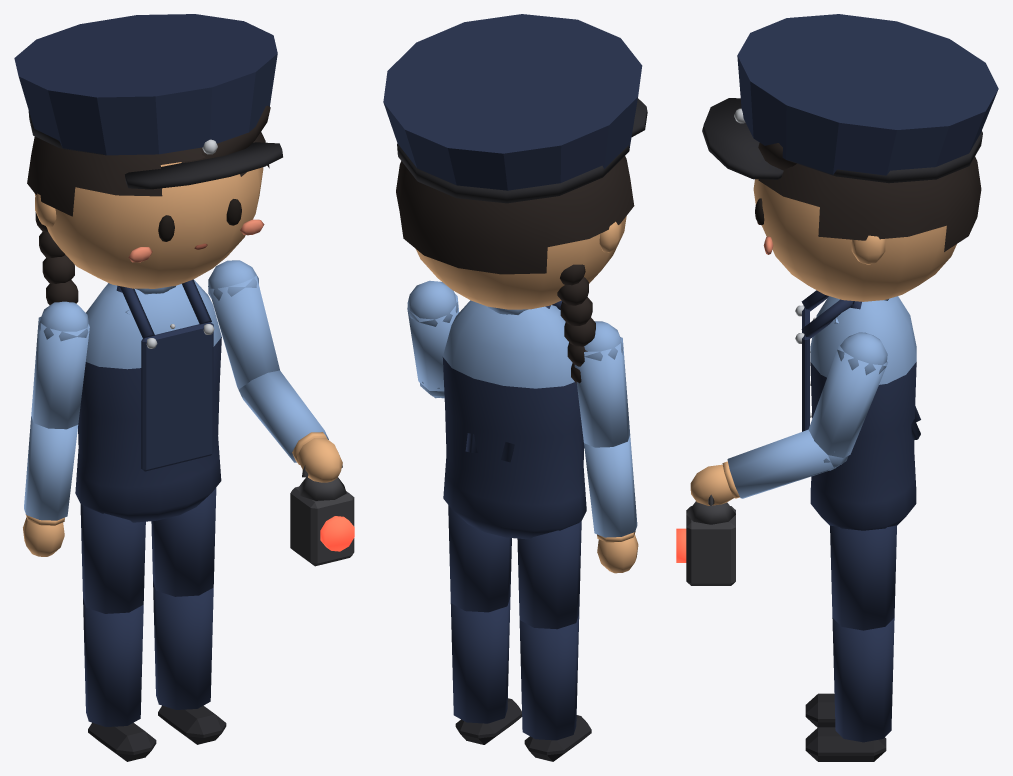
File: era2_rail_worker.glb
3 renders of one model, left to right at view 1: azimuth 30°, elevation 25°; view 2: azimuth 150°, elevation 25°; view 3: azimuth 270°, elevation 25°, orthographic.
Parts seen in each view (by area): view 1: head, body, shin_L, shin_R, arm_R, leg_R, arm_L, forearm_R, forearm_L, leg_L, prop_lantern; view 2: head, body, shin_R, shin_L, leg_R, forearm_R, arm_R, leg_L, arm_L; view 3: head, body, shin_L, leg_L, arm_L, forearm_L, prop_lantern, shin_R.
Part boxes in pixels (x1,y1,x2,y2): head: (14, 14, 282, 305); body: (75, 279, 221, 522); shin_L: (153, 581, 226, 744); shin_R: (83, 598, 156, 761); arm_R: (31, 301, 89, 429); leg_R: (80, 504, 145, 613); arm_L: (208, 260, 279, 397); forearm_R: (23, 416, 78, 556); forearm_L: (238, 370, 342, 482); leg_L: (151, 488, 216, 596); prop_lantern: (290, 465, 354, 566); head: (383, 14, 647, 383); body: (442, 300, 586, 539); shin_R: (519, 614, 591, 761); shin_L: (450, 596, 521, 744); leg_R: (517, 521, 581, 629); forearm_R: (584, 435, 638, 573); arm_R: (574, 321, 630, 447); leg_L: (448, 505, 511, 612); arm_L: (407, 280, 459, 398); head: (702, 14, 998, 301); body: (795, 290, 920, 530); shin_L: (805, 618, 894, 761); leg_L: (830, 525, 896, 630); arm_L: (808, 332, 887, 470); forearm_L: (690, 429, 848, 505); prop_lantern: (676, 494, 735, 585); shin_R: (805, 693, 835, 727).
Bounding box in the file's own units: 0.5534 × 1.52 × 0.6462.
